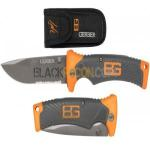Pisau: (0, 48, 150, 94)
